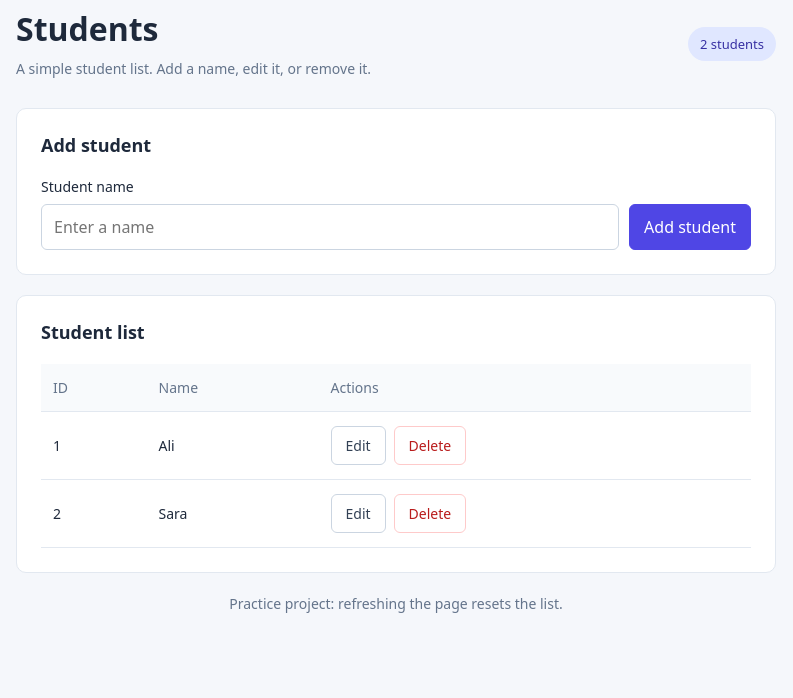
Scenario: StudentsComponent › should show a validation error and clear it after a valid submission
Click the submit button: (690, 227) 629,204 -> 751,250
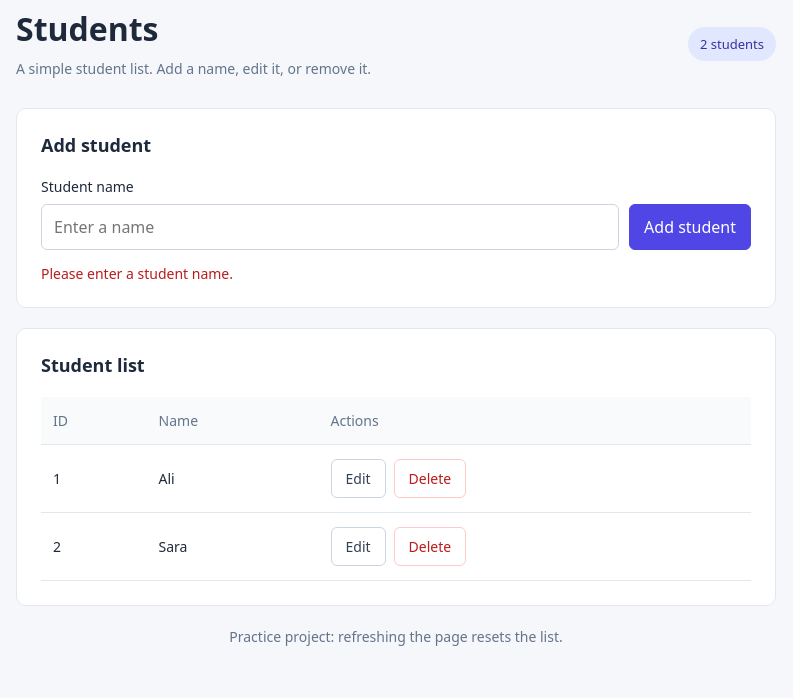
Now the message "Please enter a student name." is shown, box 41,264 -> 233,283
In the field with id "student-name": (330, 227) 41,204 -> 619,250, type "Ahmed"
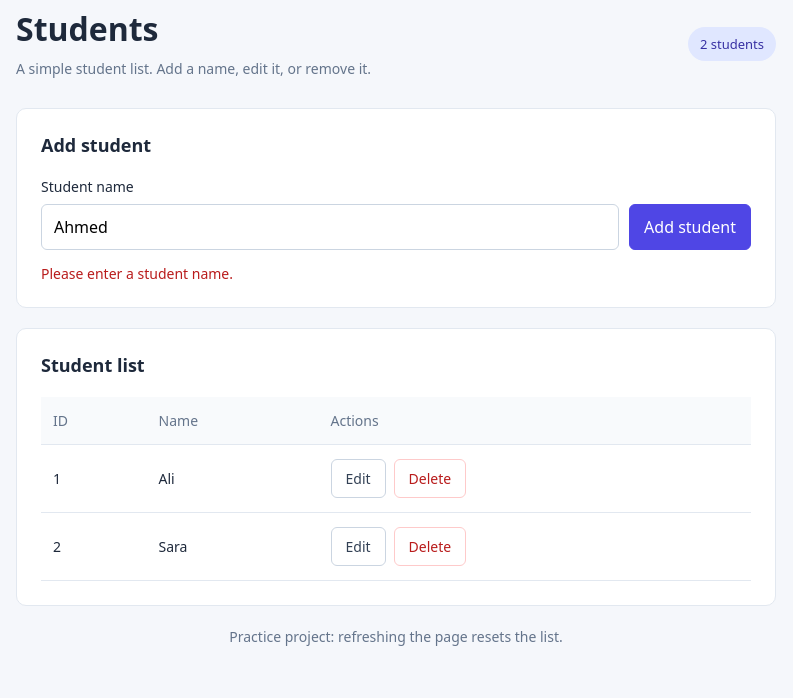
Click the submit button: (690, 227) 629,204 -> 751,250
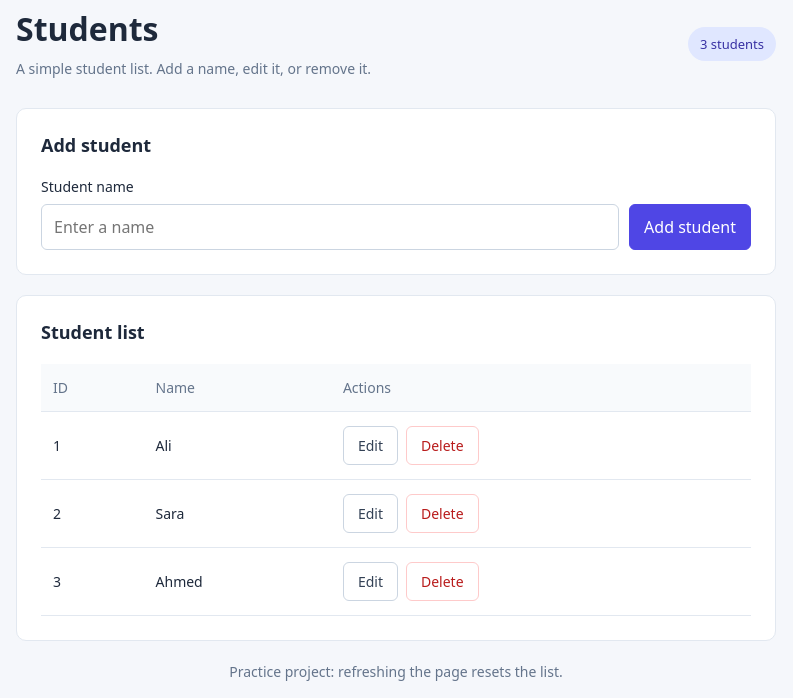
Now the message "Please enter a student name." is gone
